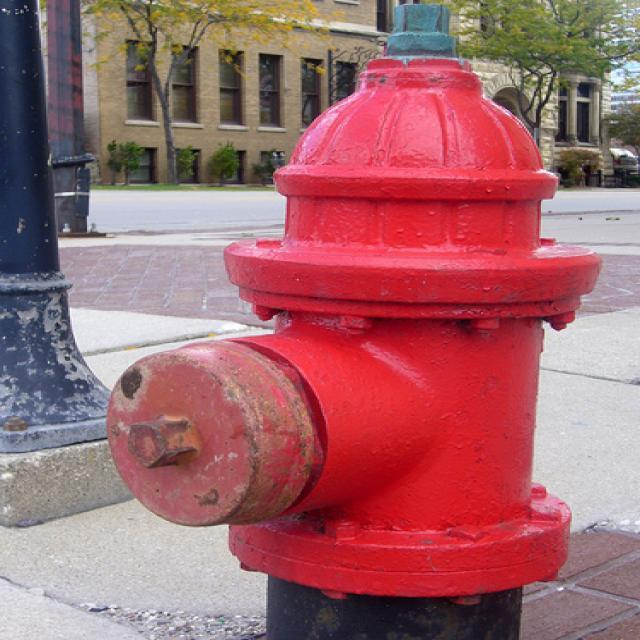fire_hydrant: (95, 4, 606, 631)
